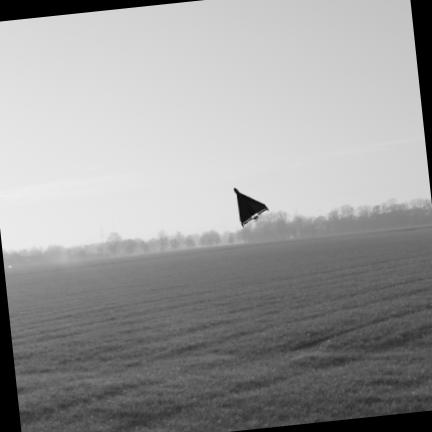Shahed: (235, 189, 268, 226)
